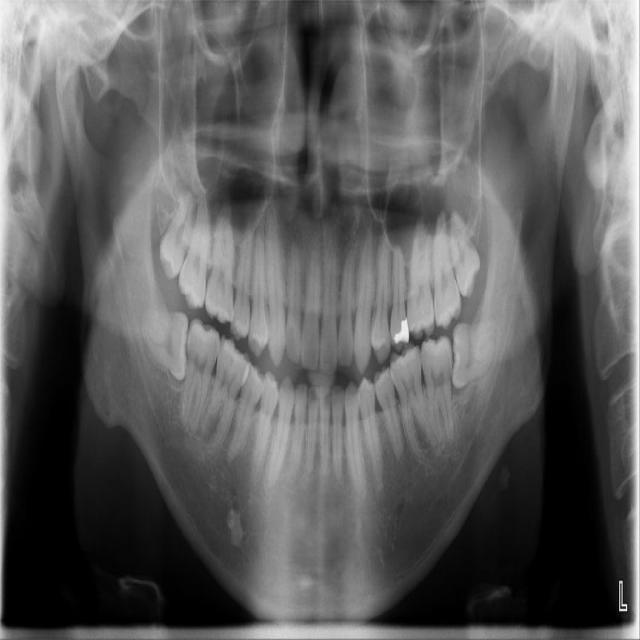Filling: (394, 316, 410, 345)
impacted tooth: (137, 306, 187, 380), (453, 311, 499, 385)
